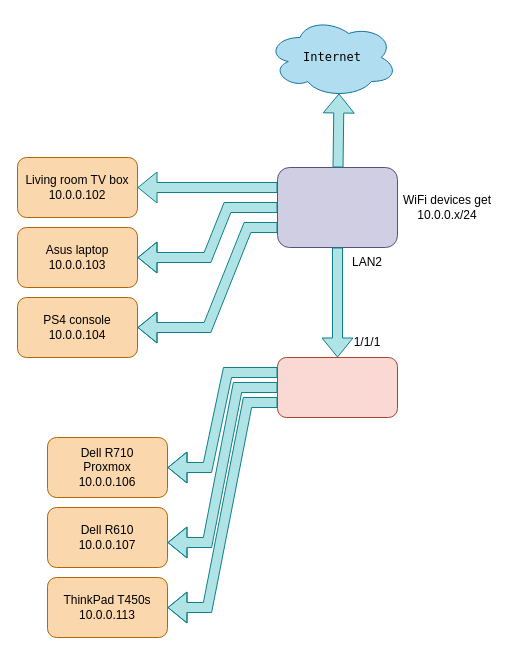
Image size: 515x655. Some labels were removed from this diagram. Here are the shapes that lost their labels. From the top down, the centre of each, then its label:
the point at 337,207: ISP Router with AP 192.168.251.254
the point at 337,387: Brocade FLS648 10.0.0.20
